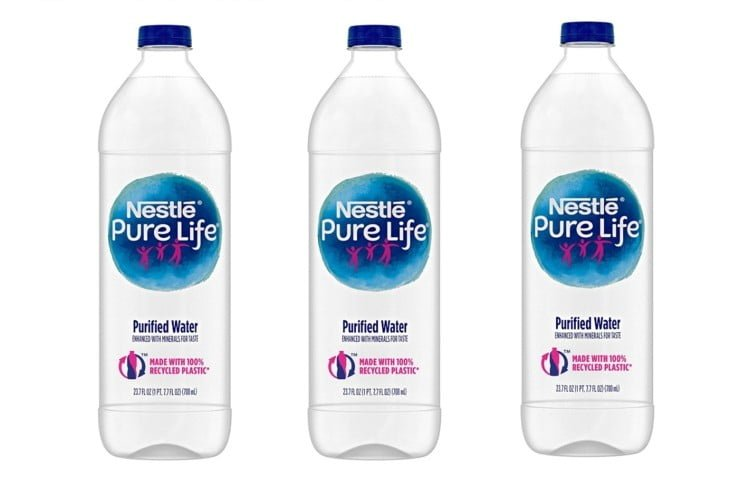plastic_bottle: (58, 8, 265, 475), (285, 8, 488, 476), (502, 16, 684, 477)
